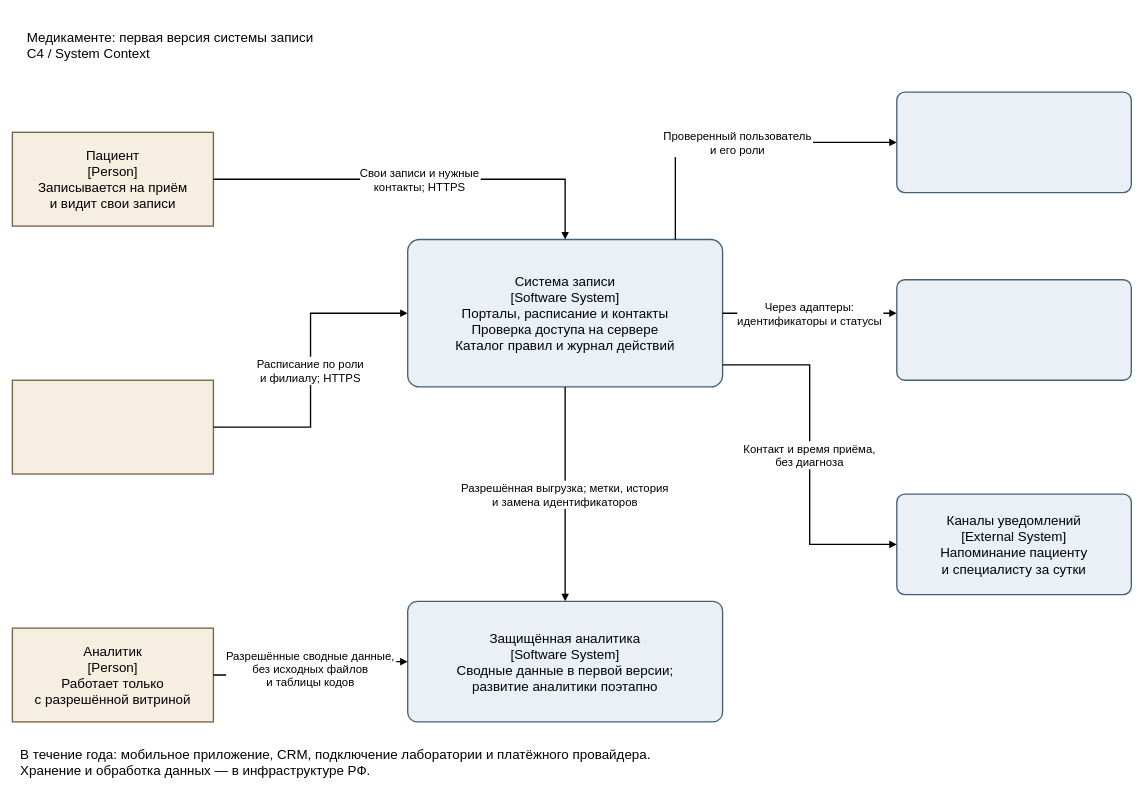
Some shapes in this 1143 by 800 pixel diagram are drawn without their labels. Each missing label, with the centre of its shape:
"1С и файловый архив [External System] Учёт, документы и медицинские карты" belongs at point (1014, 330).
"AD + IAM [External System] Вход сотрудников и пациентов" belongs at point (1014, 142).
"Ресепшен и врач [Person] Работают с данными в пределах своих прав" belongs at point (112, 426).
